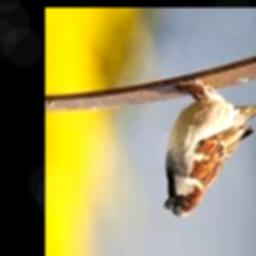Sparrow: (163, 78, 256, 217)
